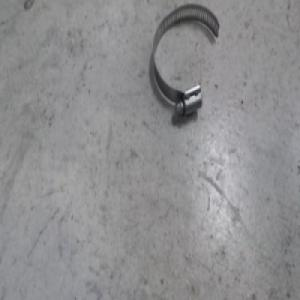AdjustableClamp: (151, 6, 221, 114)
